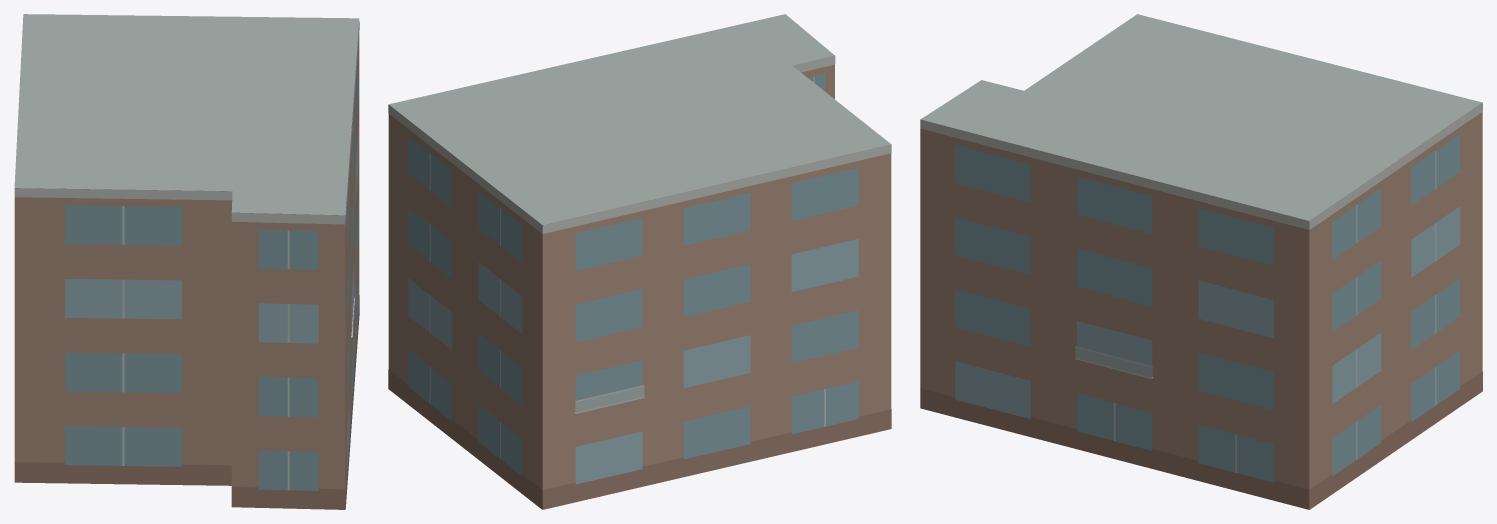
File: survey-upis-32776740.glb
The picture shows the model from 3 angles, left to right: view 1: azimuth 30°, elevation 25°; view 2: azimuth 150°, elevation 25°; view 3: azimuth 270°, elevation 25°; orthographic projection. The views are drawn at different scales.
Parts seen in each view (by area): view 1: survey-upis-32776740.tmp; view 2: survey-upis-32776740.tmp; view 3: survey-upis-32776740.tmp.
Part boxes in pixels (x1,y1,x2,y2): survey-upis-32776740.tmp: [14, 14, 359, 509]; survey-upis-32776740.tmp: [388, 14, 891, 509]; survey-upis-32776740.tmp: [920, 14, 1482, 509].
Size of the model in its own units: 12 by 7.8 by 13.77.
